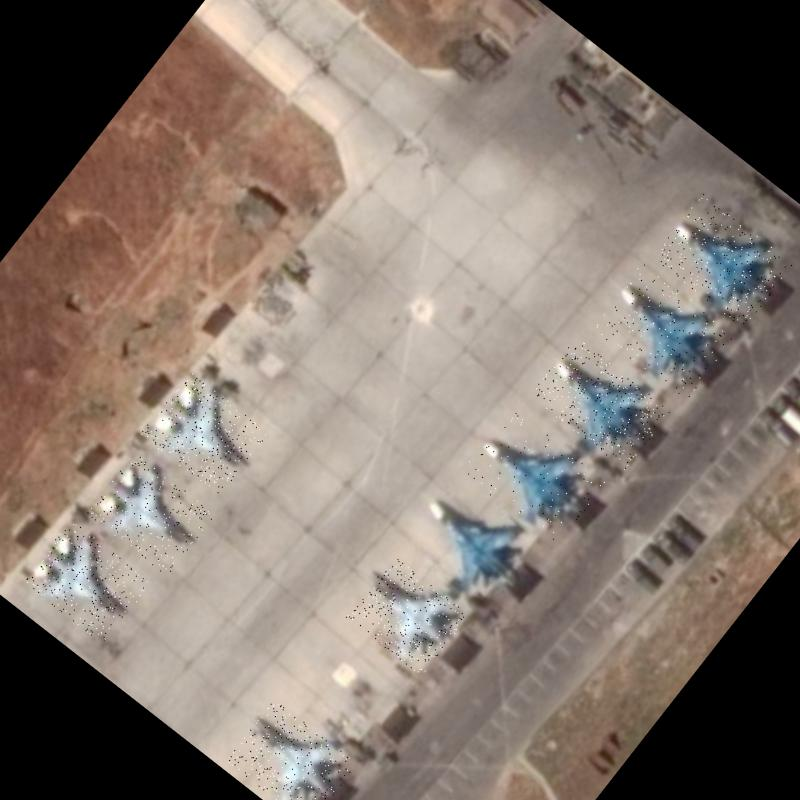A1: (21, 520, 152, 646), (86, 452, 216, 577), (140, 371, 268, 497), (346, 556, 470, 677), (225, 698, 357, 800)
A19: (460, 407, 608, 548), (398, 477, 544, 618), (591, 262, 737, 402), (528, 336, 672, 472), (652, 193, 794, 330)
